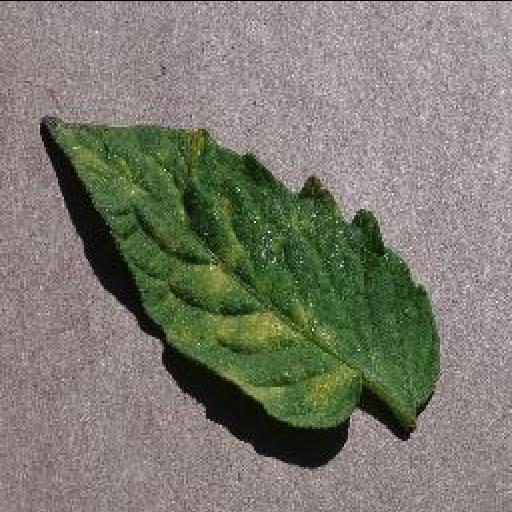disease_tomato: (38, 122, 442, 428)
